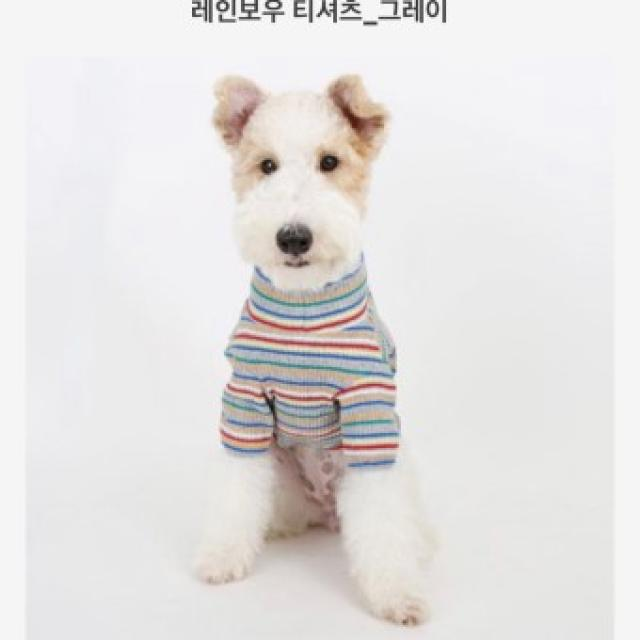cloth: (221, 258, 396, 526)
